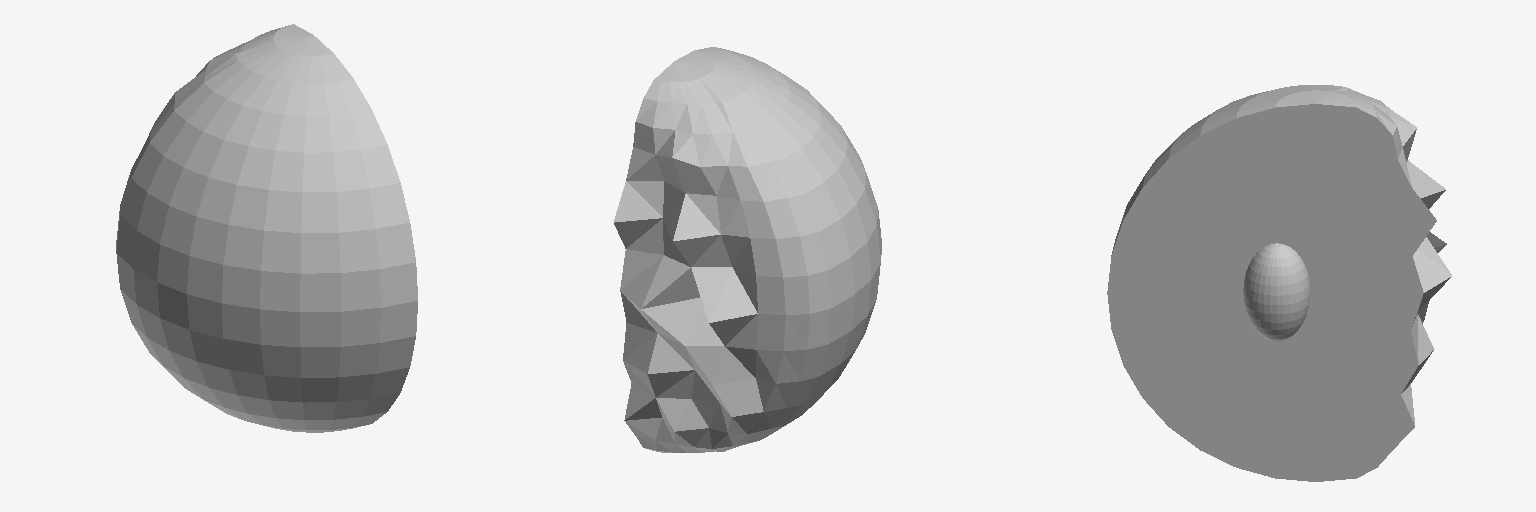
Rendered from spors.obj.
The picture shows the model from 3 angles: view 1: azimuth 30°, elevation 25°; view 2: azimuth 150°, elevation 25°; view 3: azimuth 270°, elevation 25°; orthographic projection.
Parts seen in each view (by area): view 1: Sphere_Sphere.002; view 2: Sphere_Sphere.002; view 3: Sphere_Sphere.002, Sphere.002_Sphere.
Part boxes in pixels (left/top/right/bottom): Sphere_Sphere.002: left=116, top=24, right=417, bottom=432; Sphere_Sphere.002: left=613, top=47, right=881, bottom=452; Sphere_Sphere.002: left=1107, top=85, right=1451, bottom=481; Sphere.002_Sphere: left=1243, top=243, right=1310, bottom=340.
Bounding box in the file's own units: 1.97 × 3.4 × 2.81.